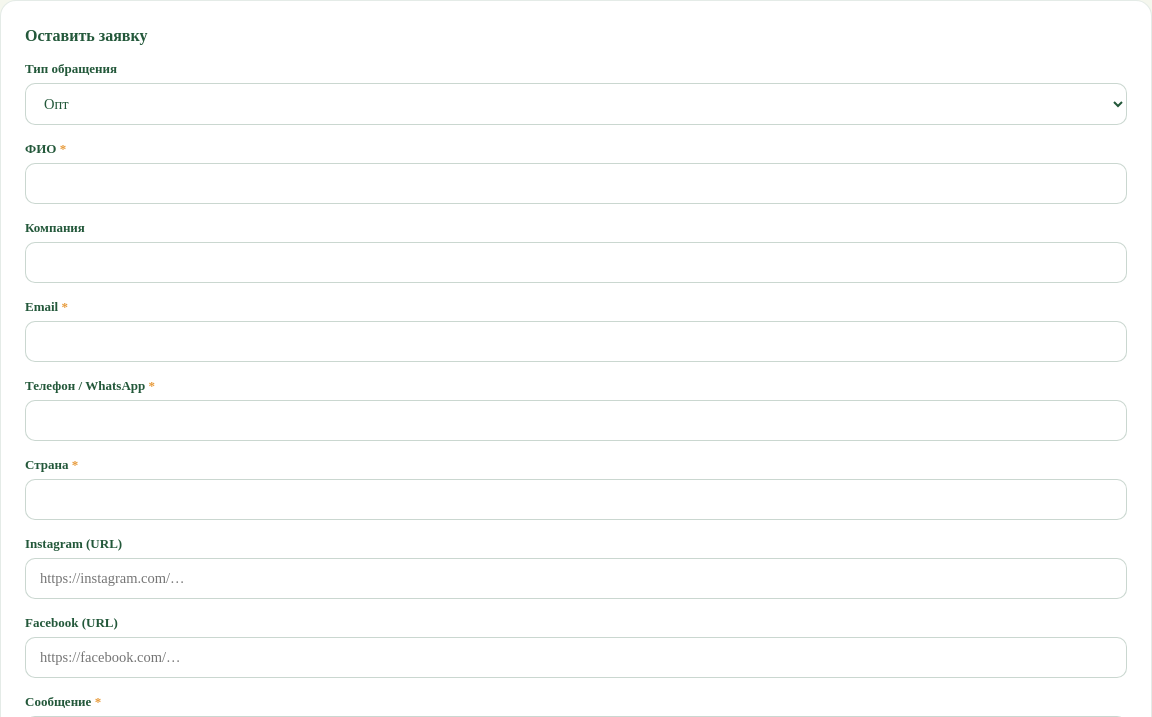
Test: Contact form › shows field errors against the fields the server named
Type "Тест" into the field labelled "ФИО *" at (576, 184), box [25,163,1127,204]
Type "a@b.tj" into the field labelled "Email *" at (576, 342), box [25,321,1127,362]
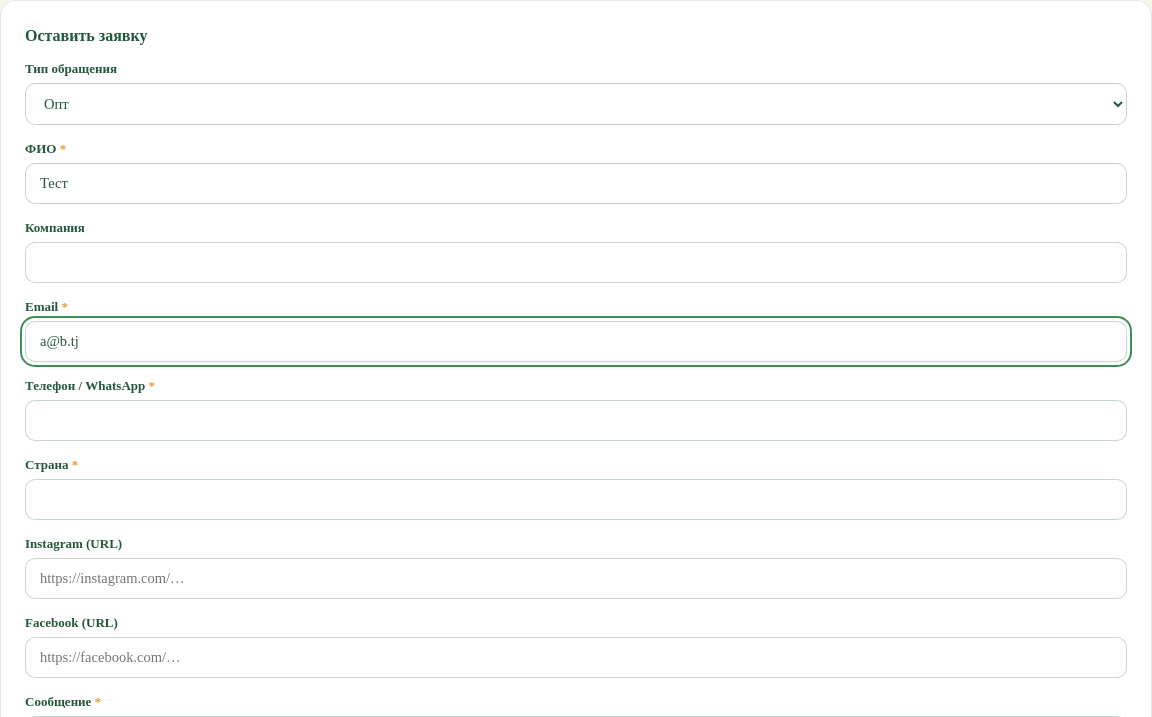
Type "+992 000" into the field labelled "Телефон / WhatsApp *" at (576, 420), box [25,400,1127,441]
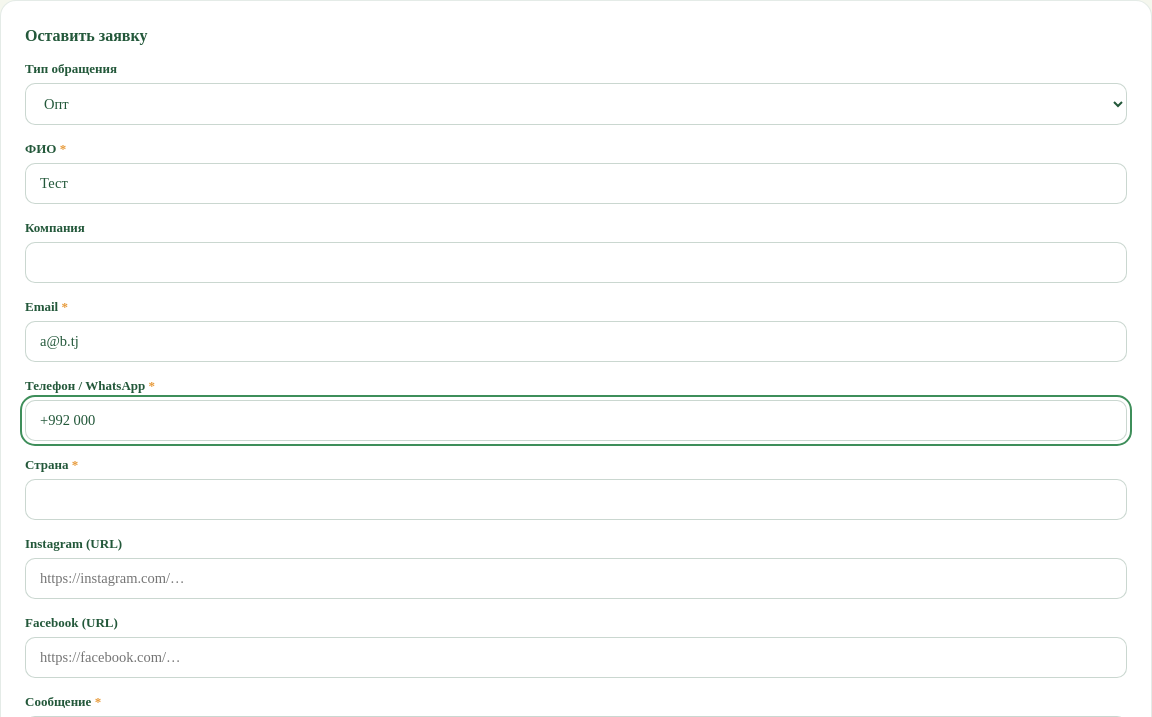
Type "Таджикистан" into the field labelled "Страна *" at (576, 500), box [25,479,1127,520]
(page scrolled)
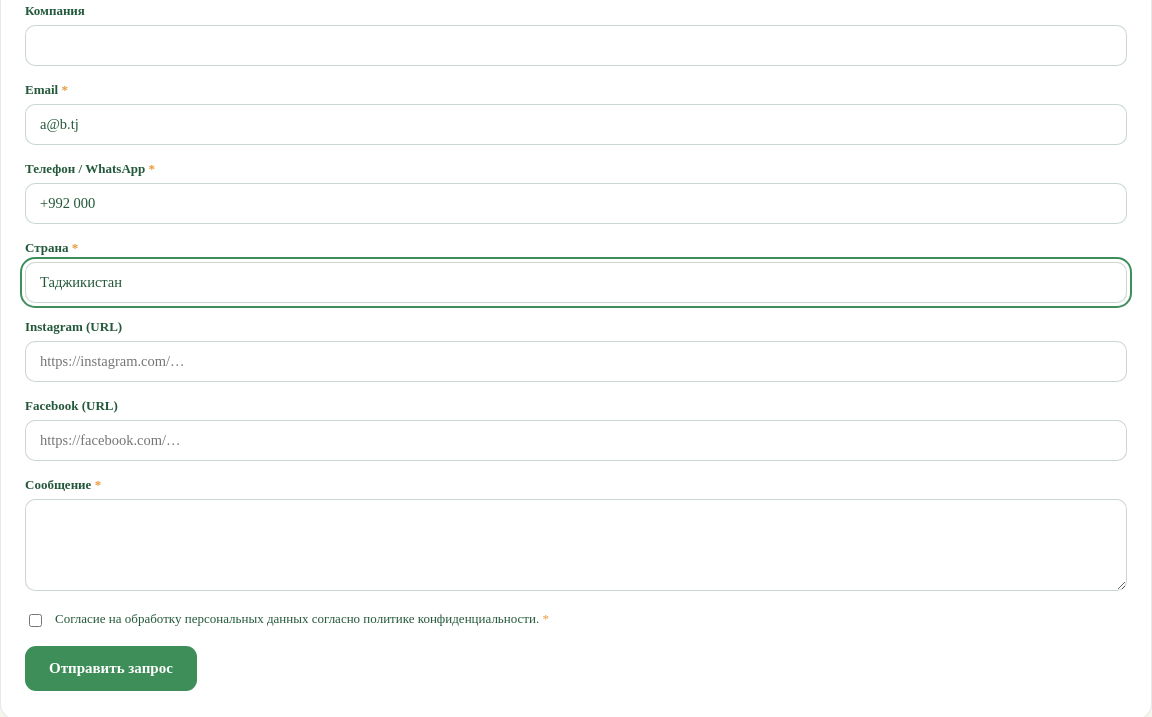
Type "Здравствуйте" into the text box labelled "Сообщение *" at (576, 545), box [25,499,1127,591]
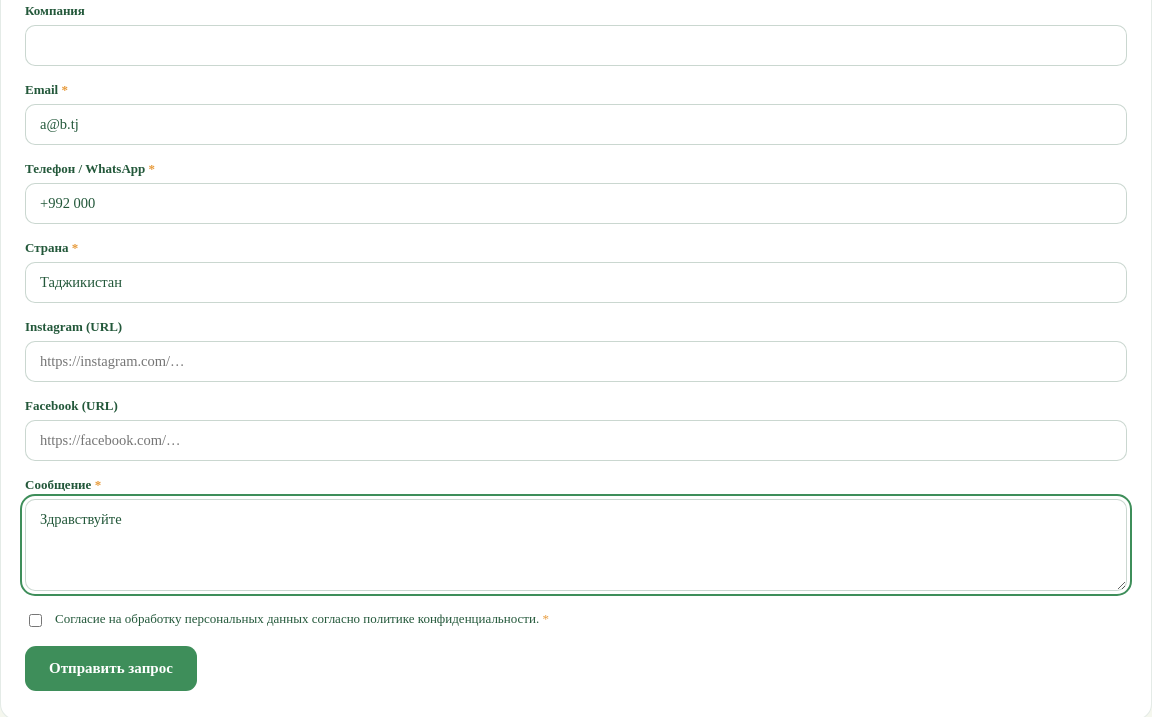
Click the checkbox at (36, 620), box [29,614,42,627]
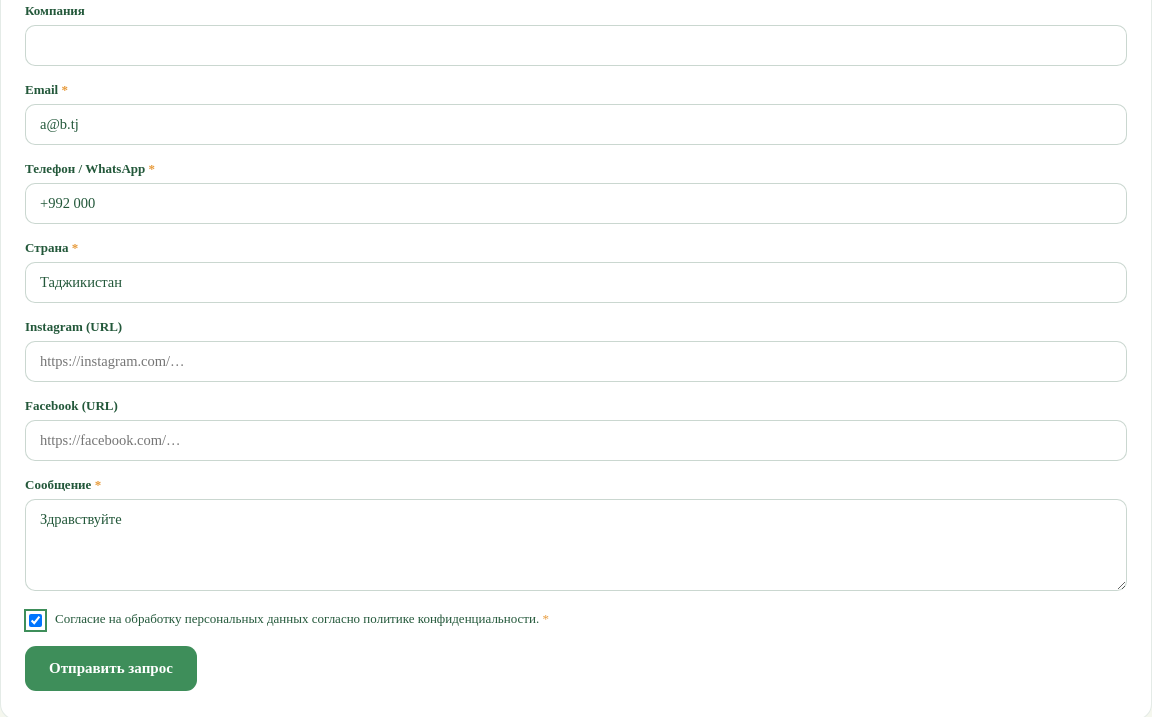
Click the button "Отправить запрос" at (111, 668), box [25,646,197,691]
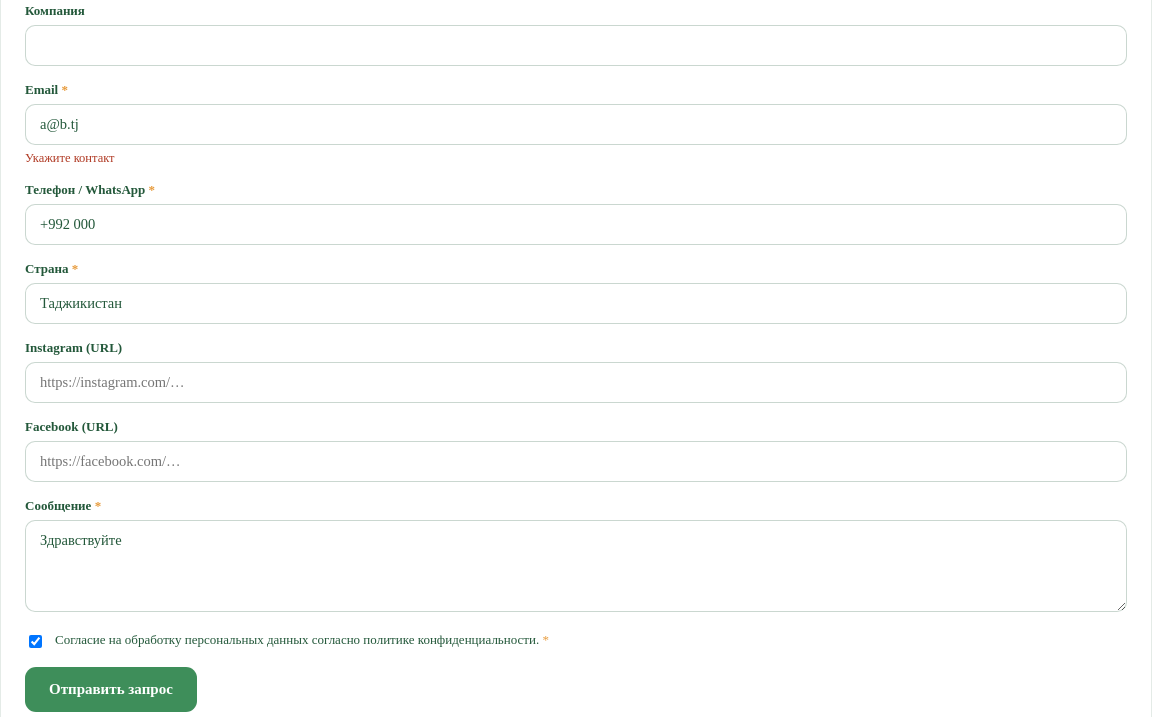
Expected: the button "Отправить запрос" is shown, [25,667,197,712]
Expected: the message with test id "error-email" reads "Укажите контакт", [25,151,115,165]
